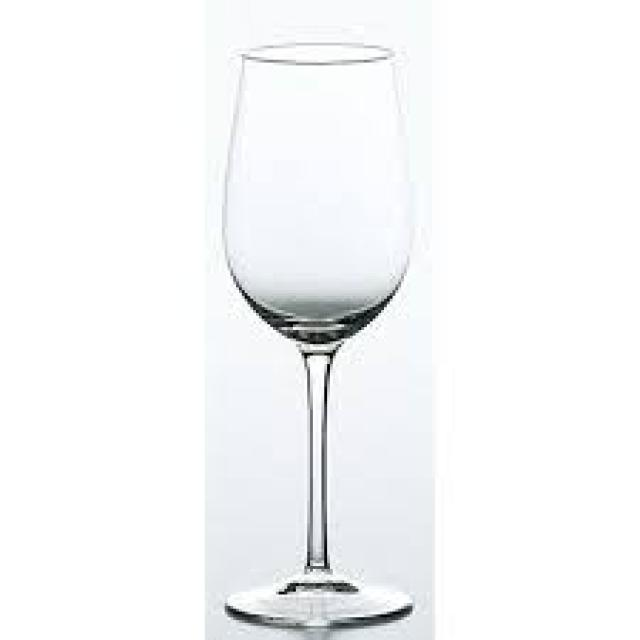glass: (219, 40, 410, 629)
